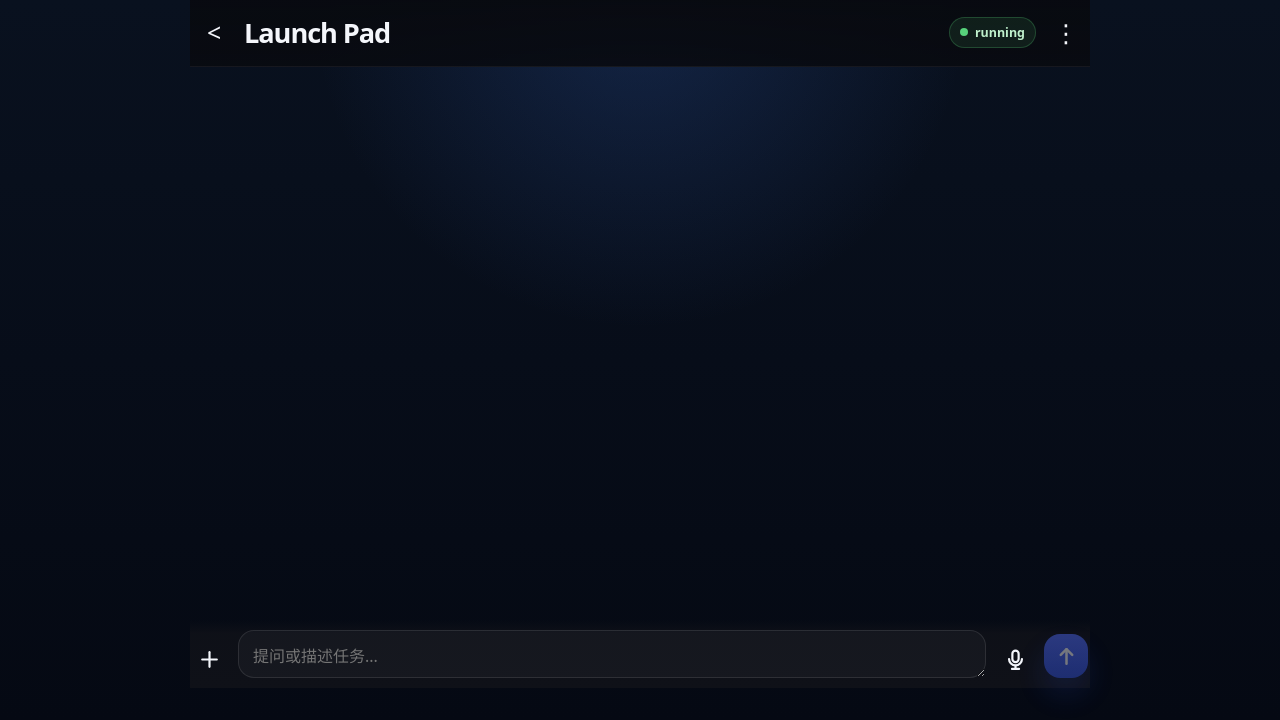
it: SessionDetailView › shows slash-command suggestions and inserts the selected command into the composer
The image size is (1280, 720).
Type "/" into the text box named "Message".
click(612, 654); type("/")  # box x1=238 y1=630 x2=986 y2=678
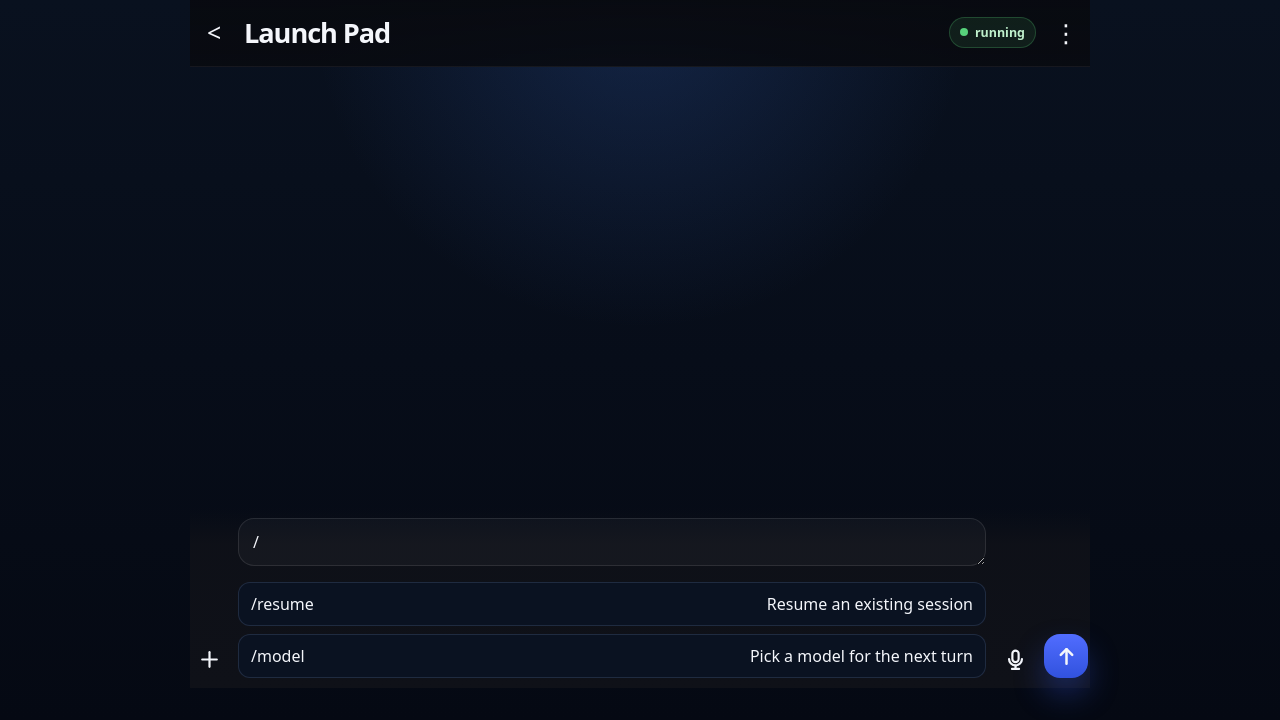
Check: the list named "Command suggestions" is shown, box x1=238 y1=582 x2=986 y2=678
Check: the option "/resume Resume an existing session" is shown, box x1=238 y1=582 x2=986 y2=626
Press ArrowDown in the text box named "Message", box x1=238 y1=518 x2=986 y2=566
Press Enter in the text box named "Message", box x1=238 y1=518 x2=986 y2=566
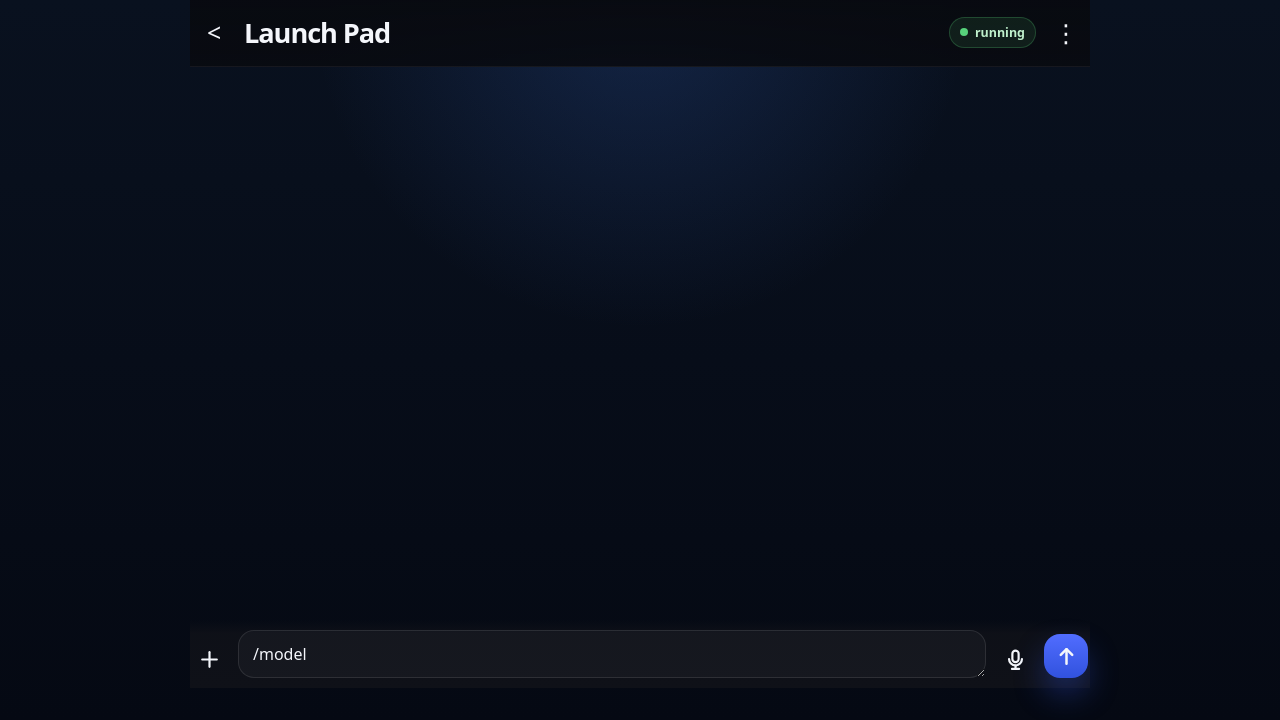
Check: the text box named "Message" holds "/model ", box x1=238 y1=630 x2=986 y2=678
